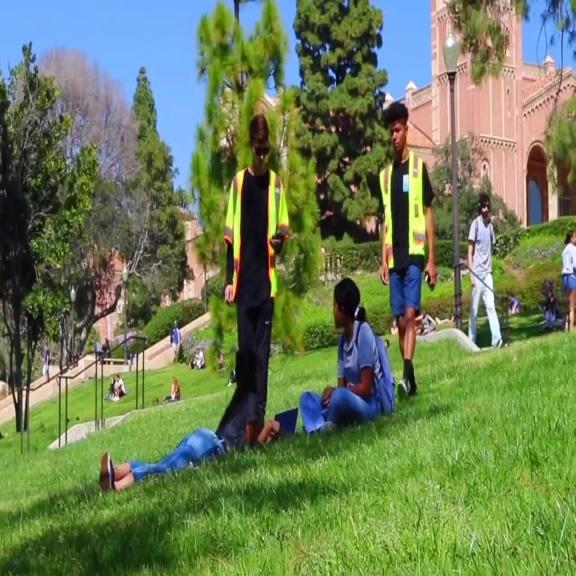safety_vest: (222, 166, 288, 300), (376, 150, 428, 266)
